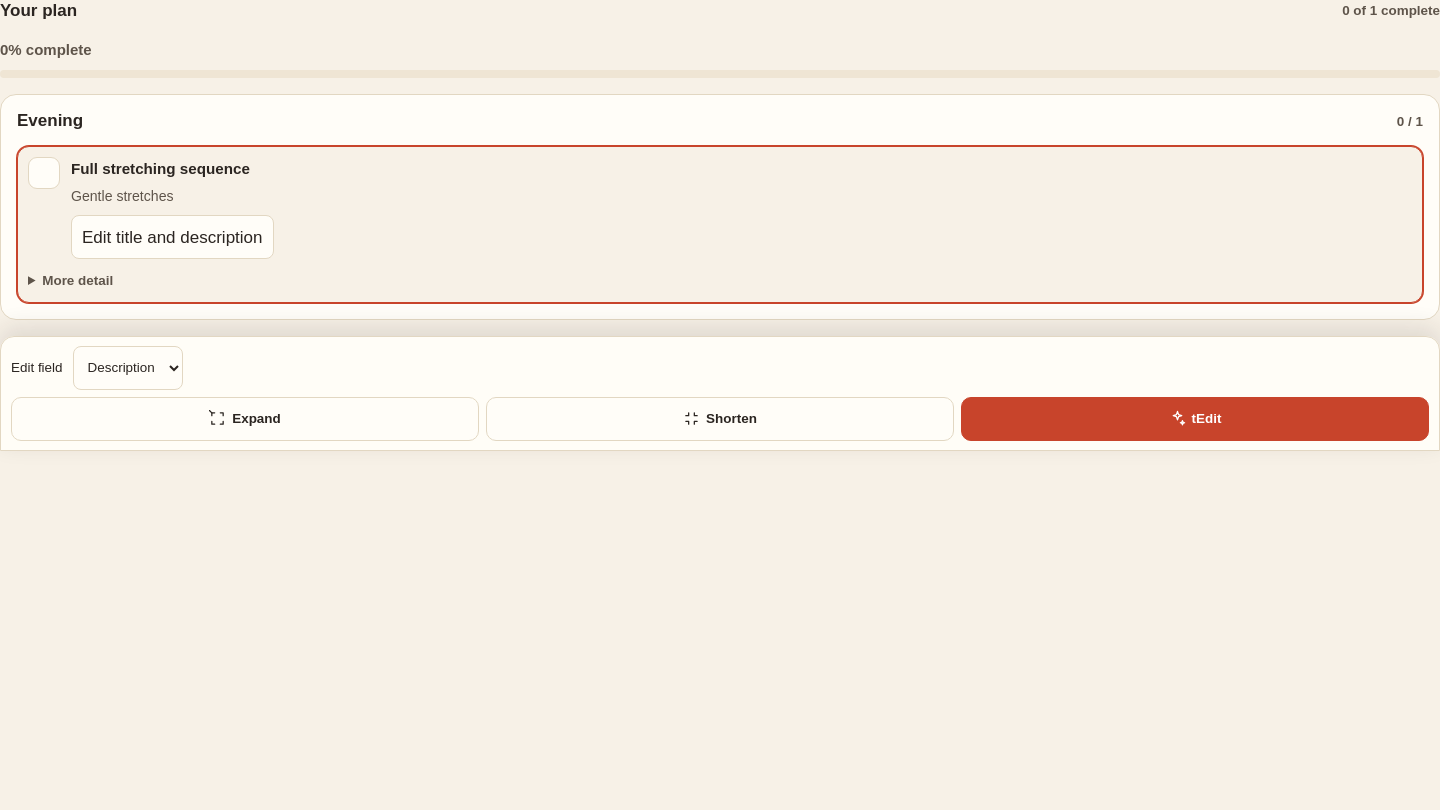
Scenario: action step title and description editing › clears a proposal when the signed-in owner changes
The width and height of the screenshot is (1440, 810).
Click the button "Shorten": [720, 419] box [486,397,954,441]
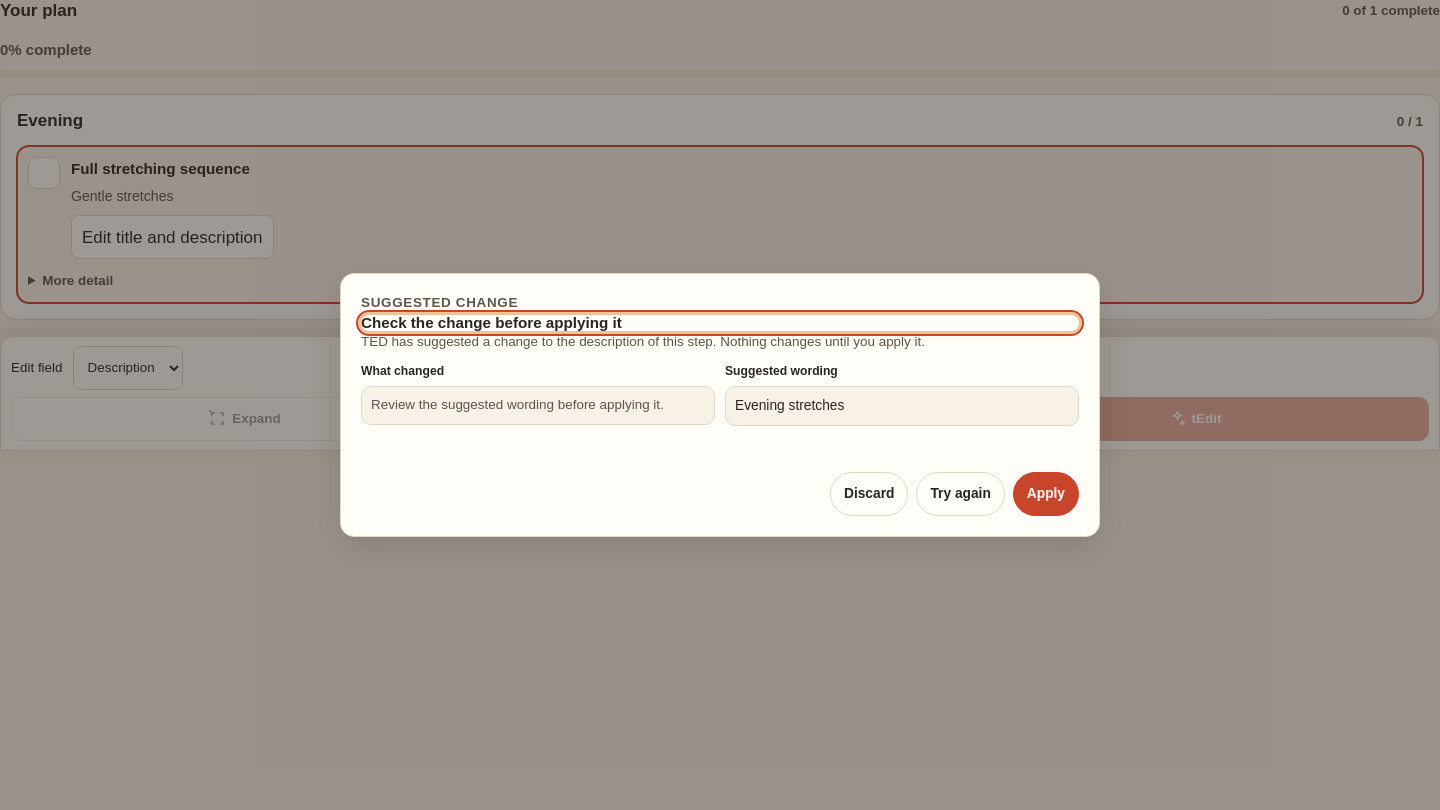
Expected: the button "Apply" is shown, [1013,472,1079,516]
